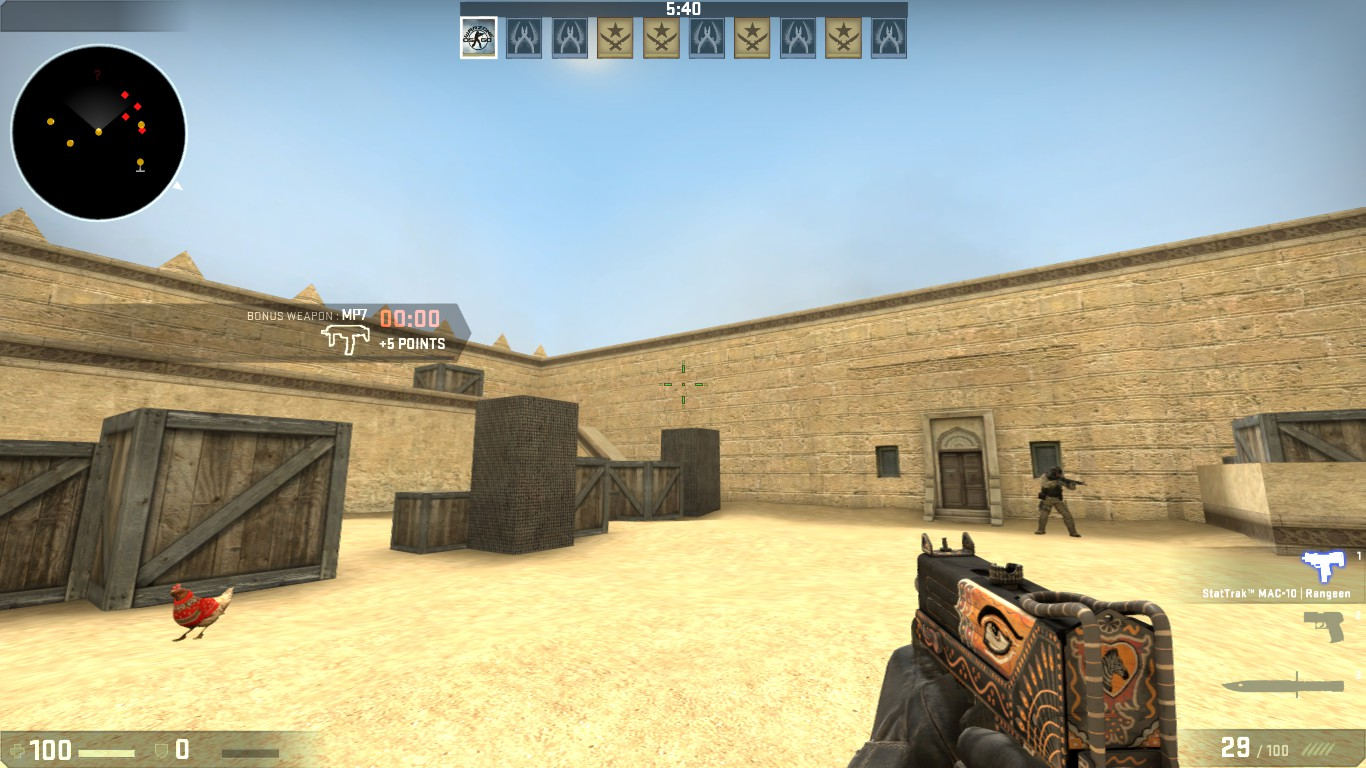c: (1038, 463, 1081, 538)
ch: (1046, 465, 1066, 480)
